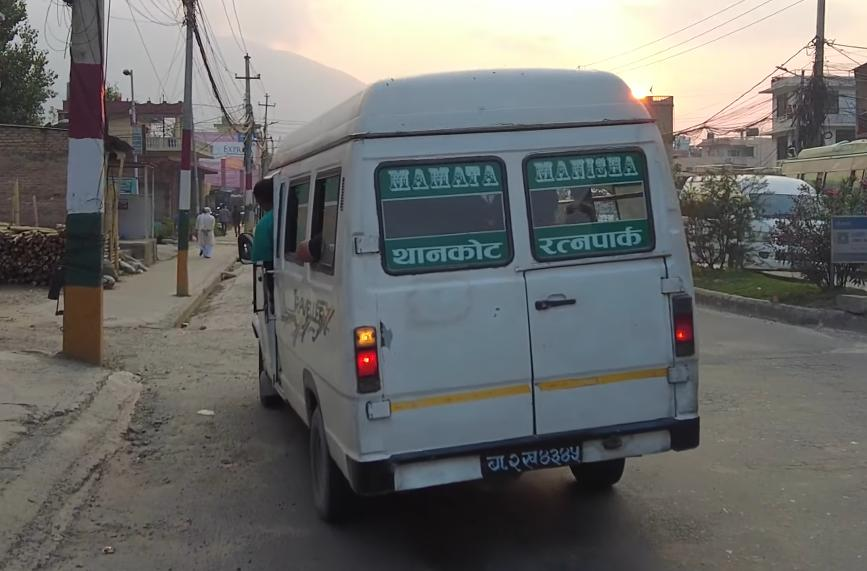micro_bus: (230, 58, 702, 523), (680, 167, 842, 281)
